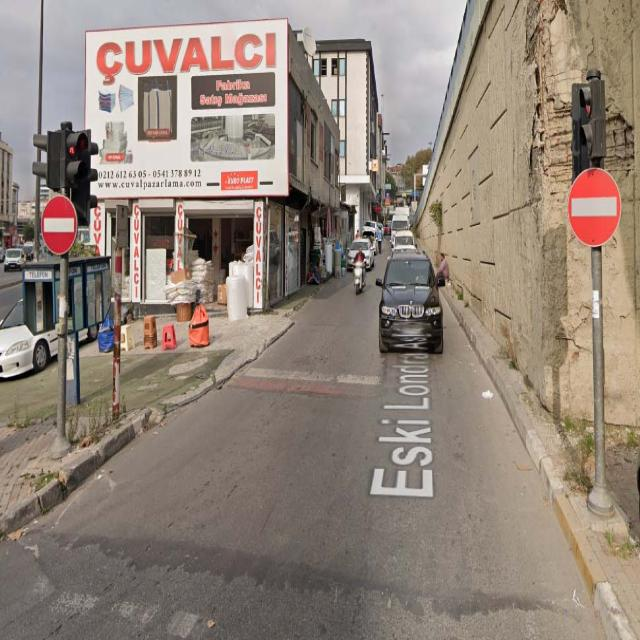girisyok: (568, 168, 621, 245), (41, 194, 78, 254)
